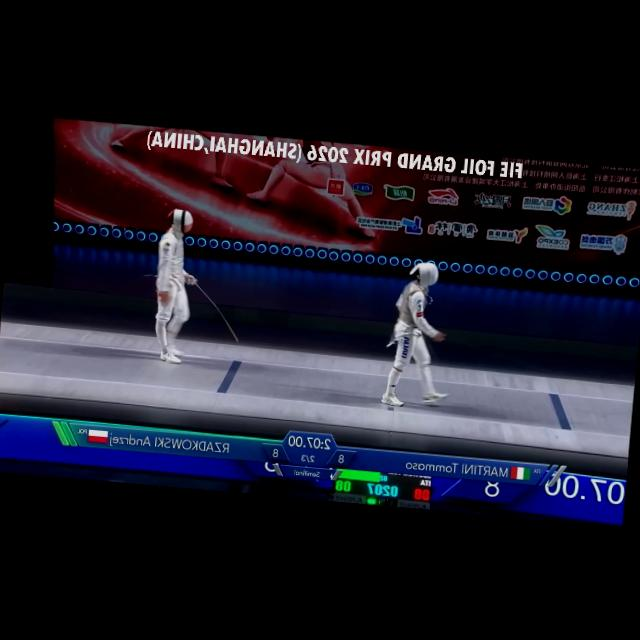blade: (180, 275, 247, 346)
